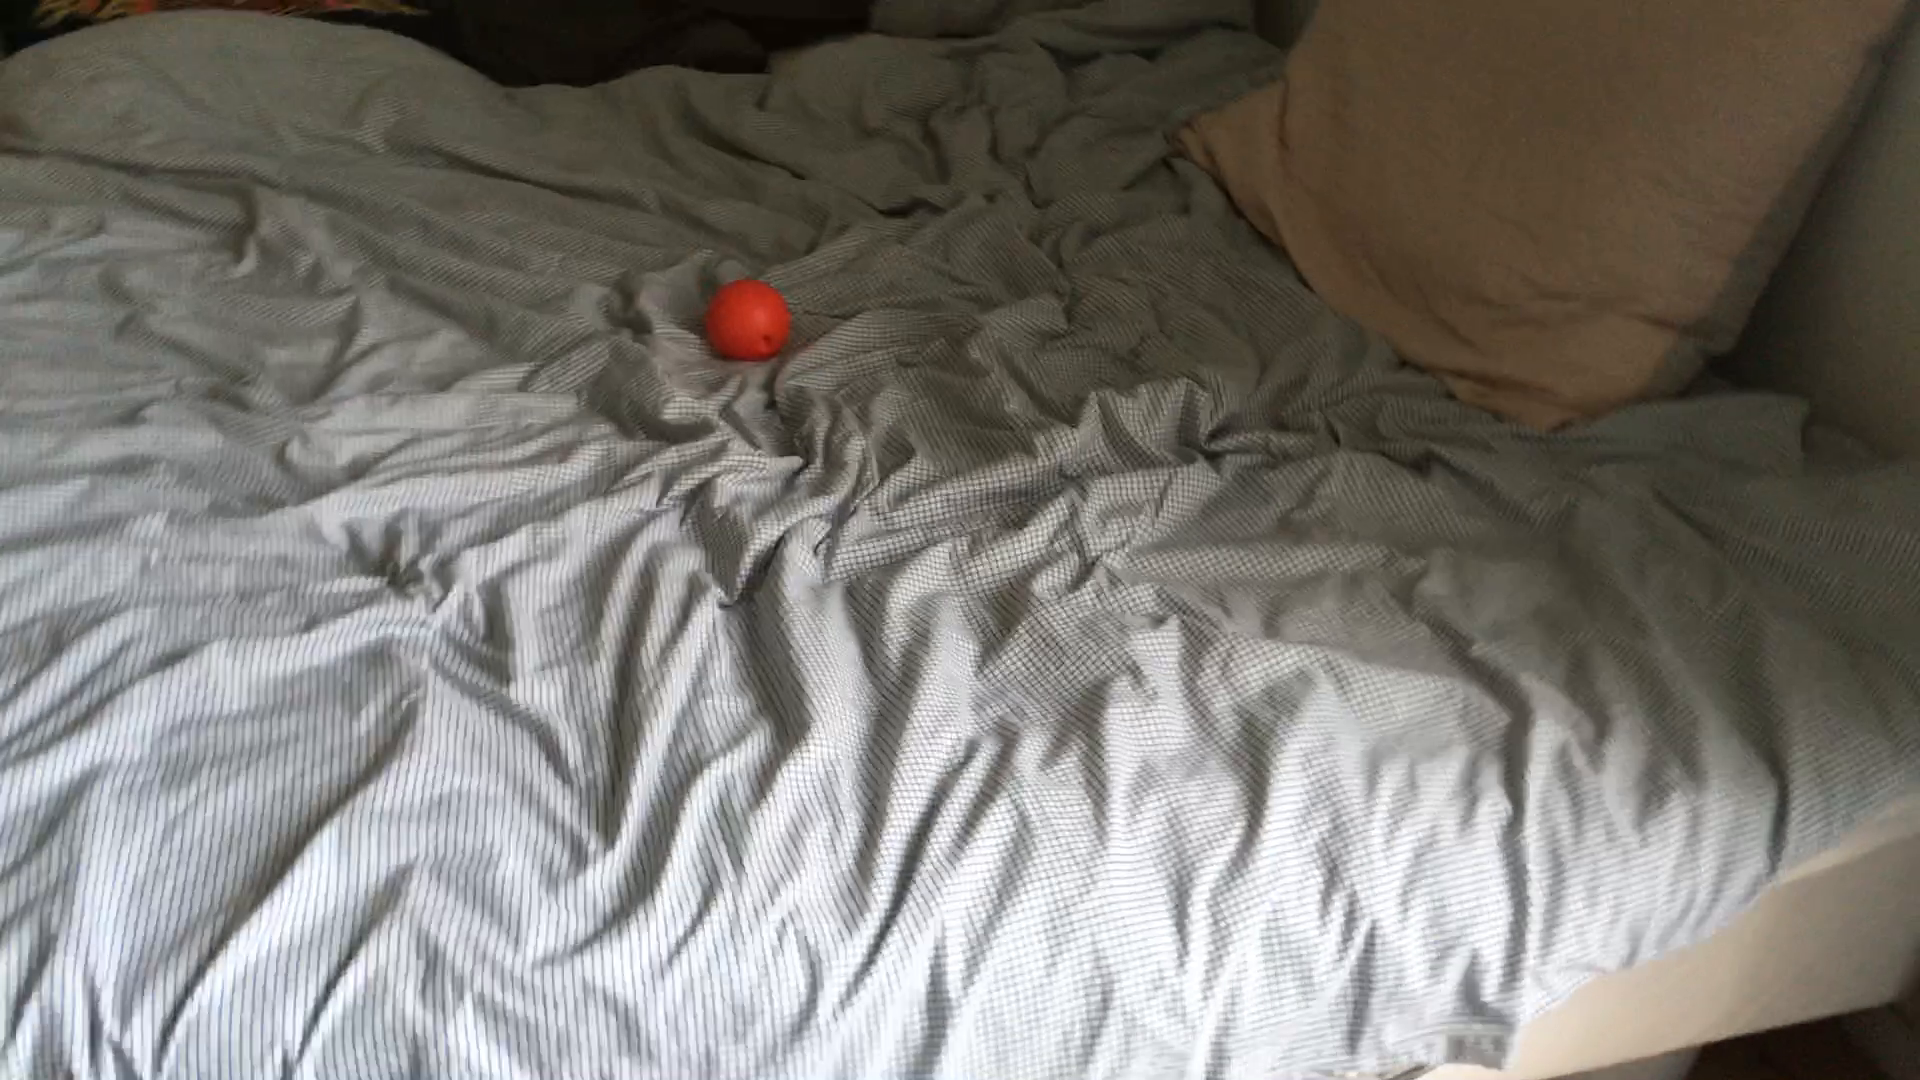Ball: (702, 277, 793, 361)
